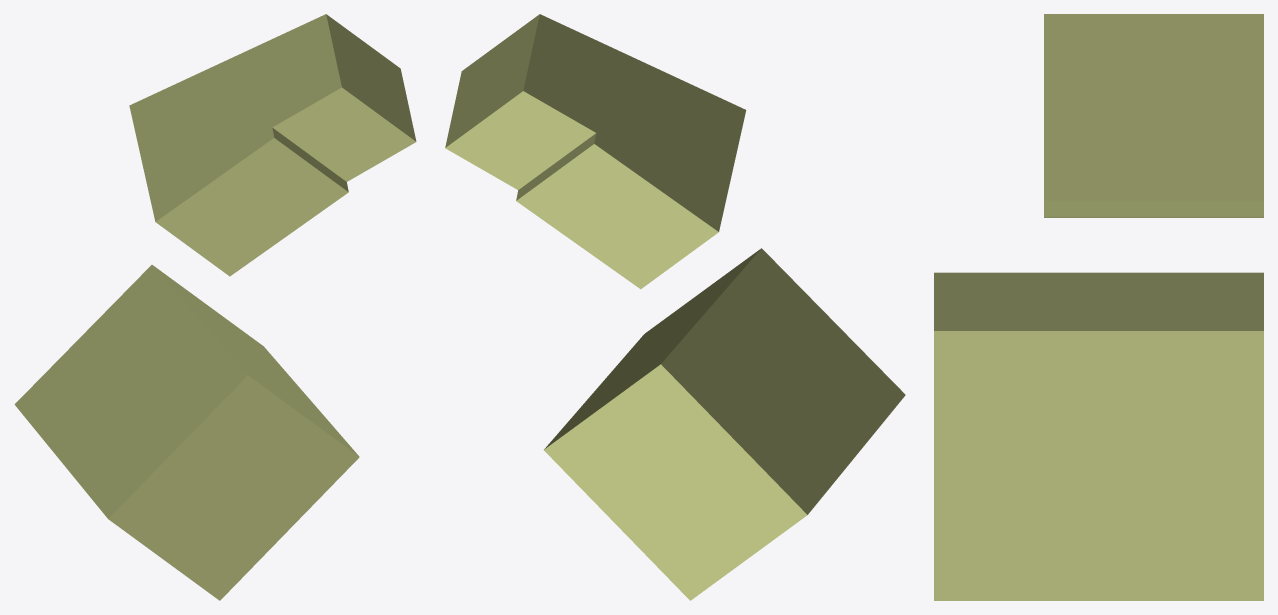
3 renders of one model, left to right at view 1: azimuth 30°, elevation 25°; view 2: azimuth 150°, elevation 25°; view 3: azimuth 270°, elevation 25°, orthographic. The views are drawn at different scales.
Parts seen in each view (by area): view 1: 0_1_2_0_3_3_3_0_1_0; view 2: 0_1_2_0_3_3_3_0_1_0; view 3: 0_1_2_0_3_3_3_0_1_0.
Boxes of the visible parts, x1,y1,x2,y2 form: 0_1_2_0_3_3_3_0_1_0: [14, 14, 416, 600]; 0_1_2_0_3_3_3_0_1_0: [445, 14, 905, 600]; 0_1_2_0_3_3_3_0_1_0: [934, 14, 1263, 600].
Bounding box in the file's own units: 15.22 × 20.07 × 9.
